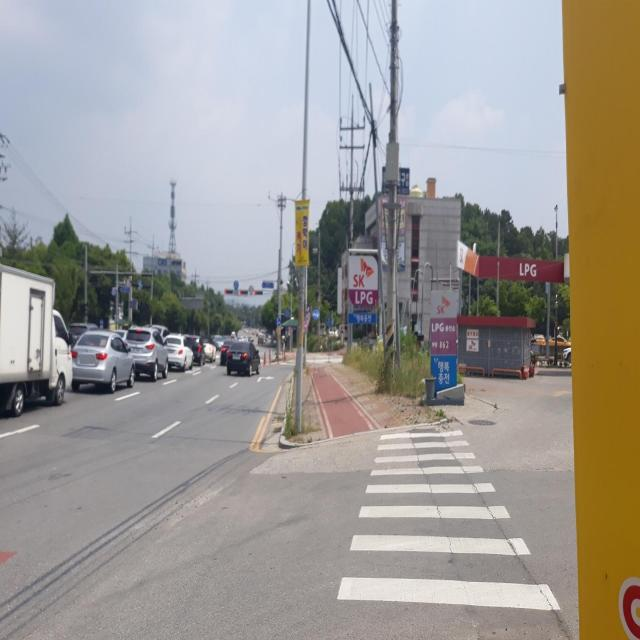횡단보도: (334, 425, 562, 615)
